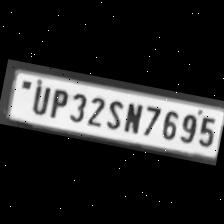2: (84, 91, 107, 127)
3: (65, 88, 90, 123)
5: (194, 112, 220, 148)
6: (156, 106, 182, 140)
7: (138, 100, 162, 136)
9: (176, 107, 200, 144)
N: (120, 98, 145, 134)
P: (45, 84, 71, 119)
S: (101, 95, 126, 131)
U: (27, 80, 52, 116)
